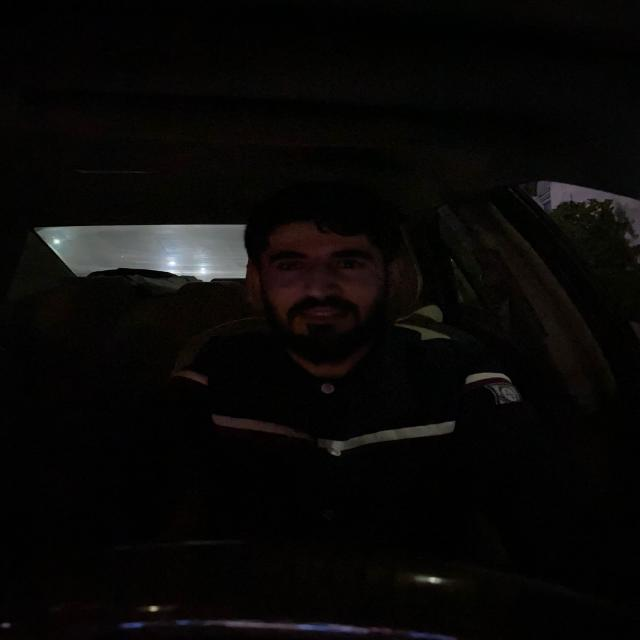person: (235, 187, 419, 369)
